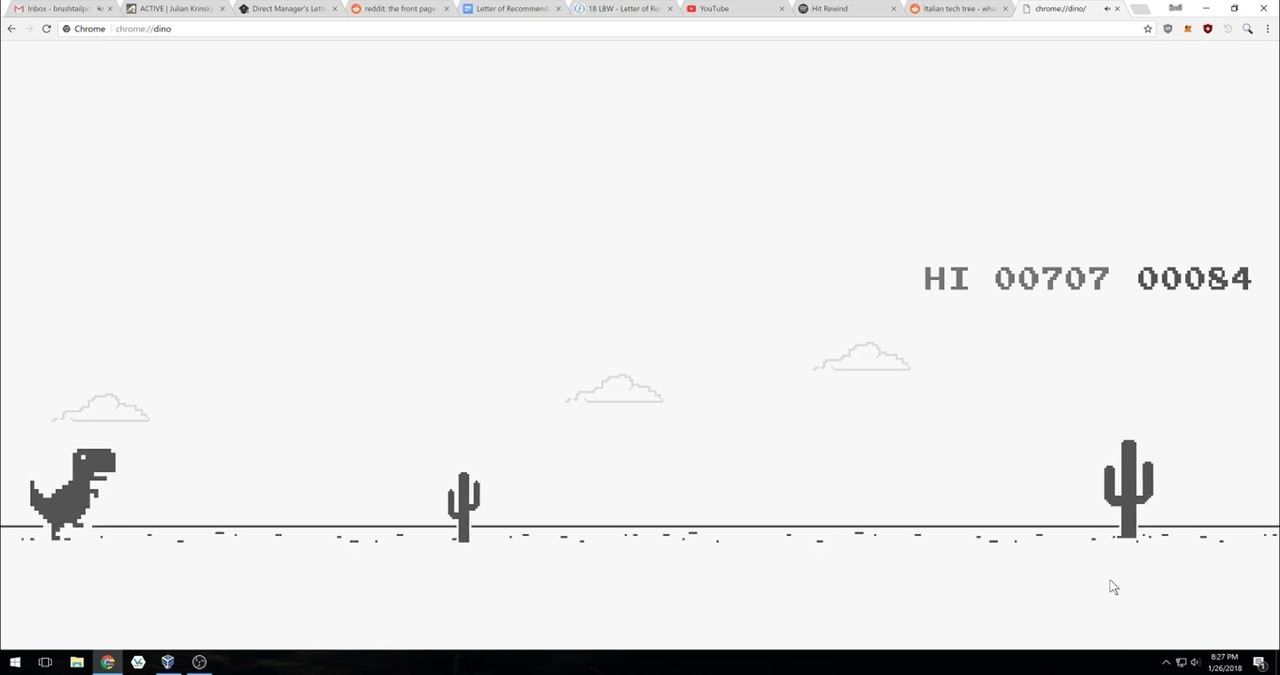cactus: (1098, 432, 1157, 543), (443, 467, 485, 546)
dinosaur: (27, 447, 118, 543)
